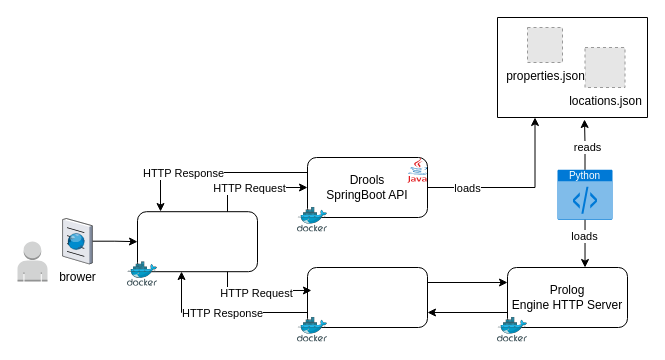
The diagram is 665 pixels wide and 360 high, and some of its shapes have lost their labels. Grey dashed boxes stand in for pictures. The centre of each missing label's shape, as x and y in pixels:
React Frontend App: the point at 197,241
User: the point at 32,261
Web API: the point at 367,297
